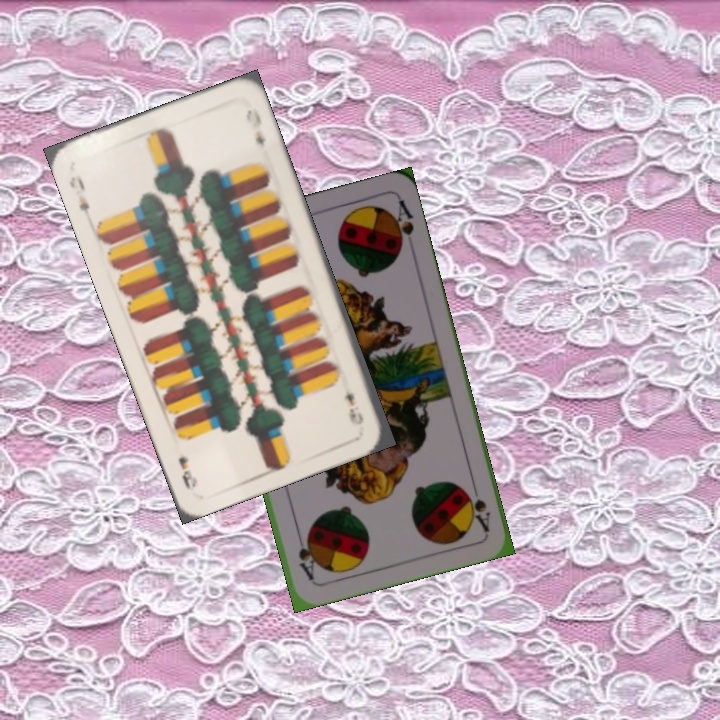E9: (65, 171, 94, 222), (341, 387, 366, 428)
SA: (461, 476, 494, 534)
